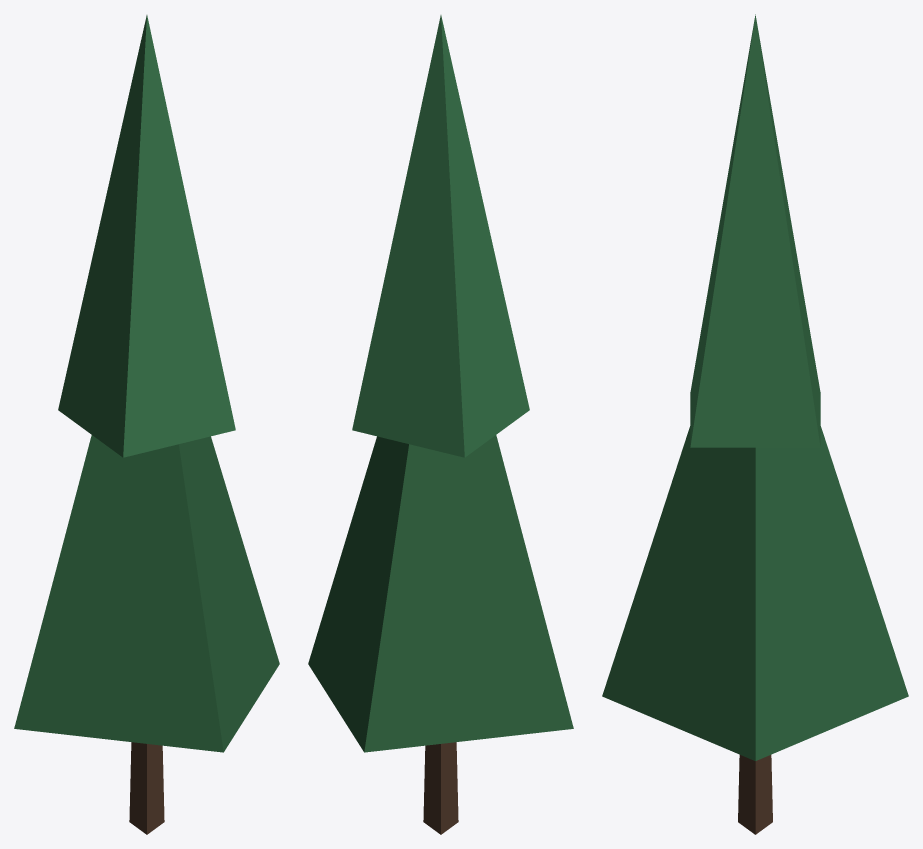
Rendered from conifer_a_lod2.glb.
The picture shows the model from 3 angles, left to right: view 1: azimuth 30°, elevation 25°; view 2: azimuth 150°, elevation 25°; view 3: azimuth 270°, elevation 25°; orthographic projection.
Visible parts, largest first — view 1: conifer; view 2: conifer; view 3: conifer.
Boxes of the visible parts, x1,y1,x2,y2 form: conifer: [14, 15, 279, 834]; conifer: [308, 15, 573, 834]; conifer: [602, 14, 908, 834].
Size of the model in its own units: 4.54 by 13.27 by 4.54.
